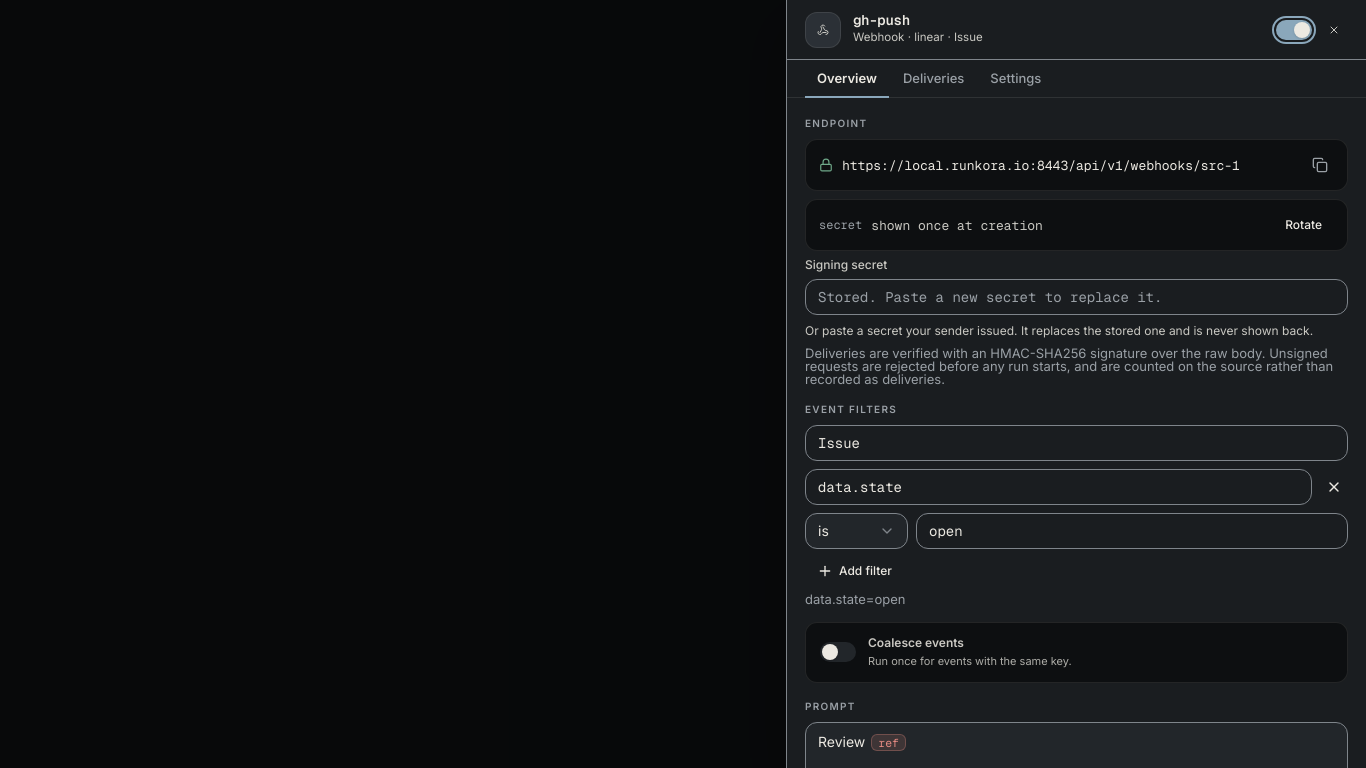
Test: a generic webhook source › takes a typed event type and filter field, with no sender restriction
The image size is (1366, 768).
Expected: the field named "Filter 1 field" holds "data.state", left=805, top=469, right=1312, bottom=505
Replace the text in the field named "Event type" with "Comment": (1076, 443) left=805, top=425, right=1348, bottom=461
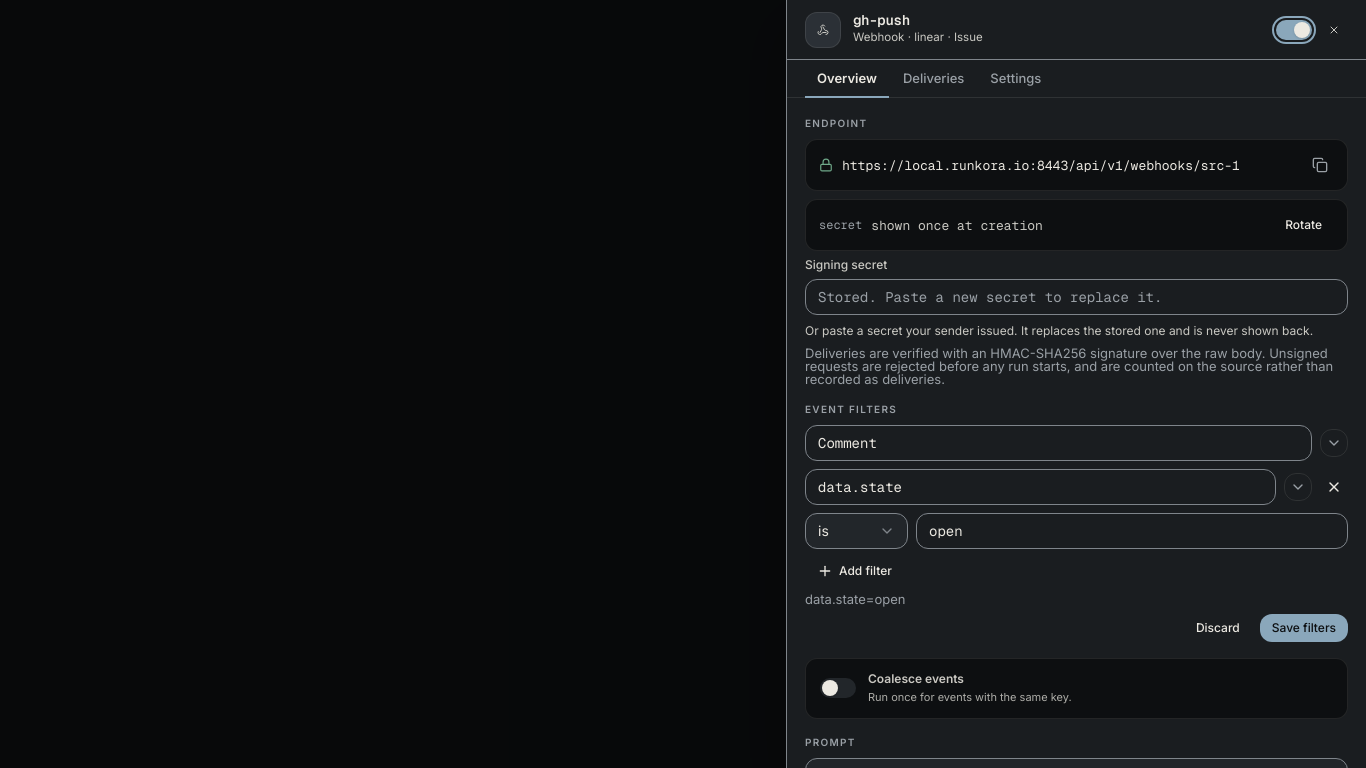
Expected: the button "Save filters" is shown, left=1260, top=614, right=1348, bottom=642
